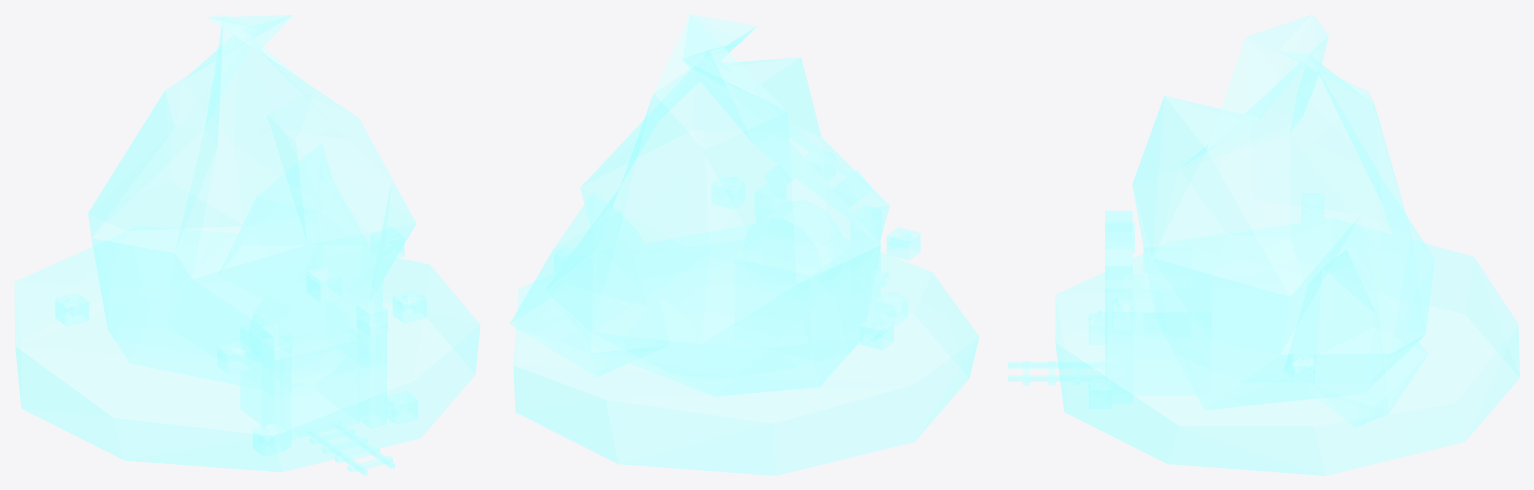
Rendered from GH_Mountain_Copper.fbx.
The picture shows the model from 3 angles, left to right: view 1: azimuth 30°, elevation 25°; view 2: azimuth 150°, elevation 25°; view 3: azimuth 270°, elevation 25°; orthographic projection.
Parts seen in each view (by area): view 1: SM_Mountain_Copper; view 2: SM_Mountain_Copper; view 3: SM_Mountain_Copper.
Boxes of the visible parts, bbox=[...] form: SM_Mountain_Copper: bbox=[14, 14, 480, 475]; SM_Mountain_Copper: bbox=[510, 14, 979, 475]; SM_Mountain_Copper: bbox=[1008, 14, 1519, 475].
Size of the model in its own units: 10.16 by 8.45 by 11.09.
